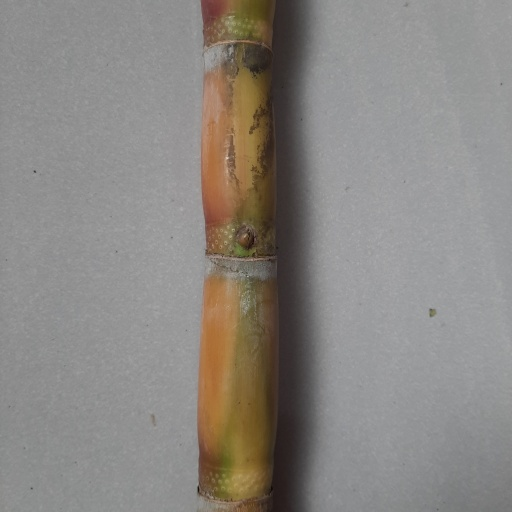Bud: (234, 226, 256, 252)
